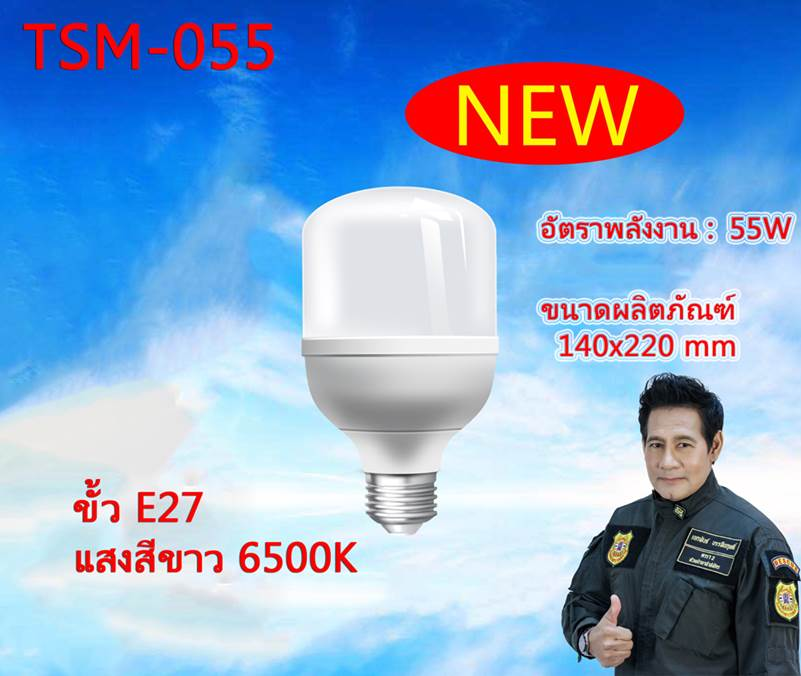Light_bulb: (291, 174, 512, 547)
